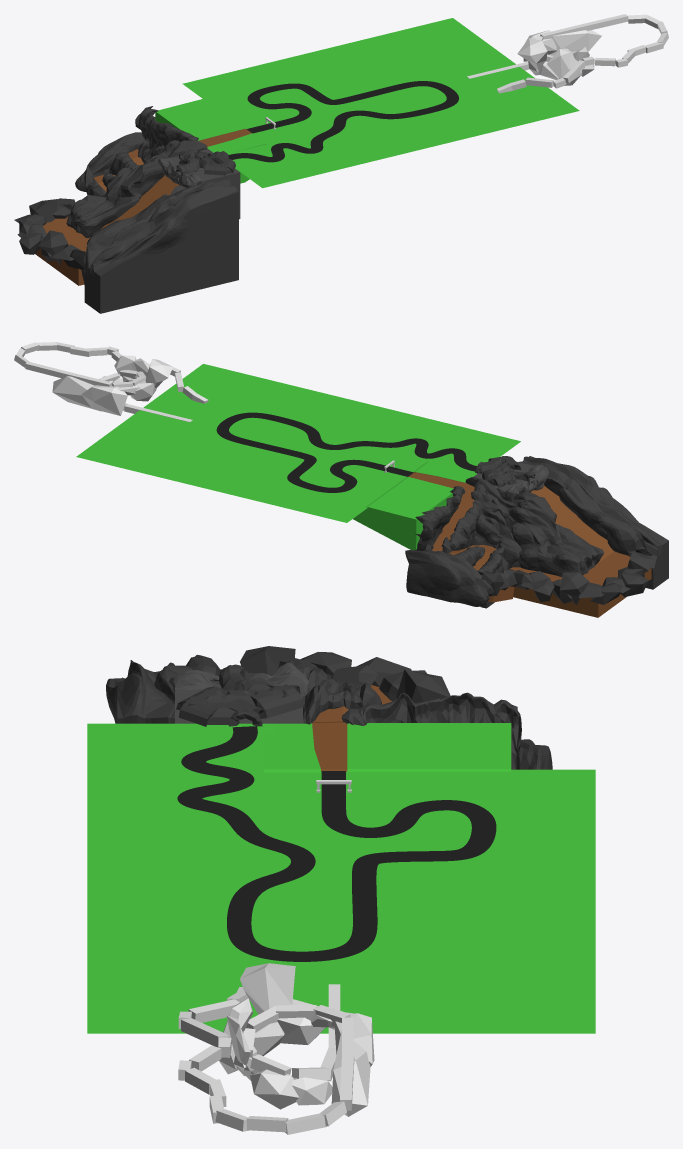
The model's file is mapdenemeee123.fbx.
3 views of the same model, one above another, from view 1: azimuth 30°, elevation 25°; view 2: azimuth 150°, elevation 25°; view 3: azimuth 270°, elevation 25° (orthographic). The views are drawn at different scales.
Visible parts, largest first — view 1: Plane, Cube.045, Cube.033, Cube.041, Cube.023, Cube.030, Cube.025, Cube.024, Icosphere.008, Cube.040, Cube.008, Icosphere.009 (+3 smaller); view 2: Plane, Cube.045, Cube.033, Cube.041, Cube.025, Cube.024, Cube.030, Cube.023, Icosphere.007, Icosphere.008, Cube.026, Cube.029 (+5 smaller); view 3: Plane, Cube.033, Cube.045, Cube.041, Cube.030, Cube.023, Cube.040, Icosphere.009, Cube.032, Icosphere.008, Icosphere.002, Icosphere.022 (+6 smaller).
Boxes of the visible parts, x1,y1,x2,y2 form: Plane: (182,18,579,188); Cube.045: (66,106,238,313); Cube.033: (228,81,458,162); Cube.041: (155,98,246,140); Cube.023: (158,149,240,219); Cube.030: (176,149,235,175); Cube.025: (35,218,90,285); Cube.024: (100,175,178,229); Icosphere.008: (549,30,601,55); Cube.040: (207,133,267,183); Cube.008: (540,14,628,39); Icosphere.009: (517,38,547,72); Plane: (76,364,520,522); Cube.045: (405,456,668,608); Cube.033: (216,412,476,492); Cube.041: (353,477,453,550); Cube.025: (570,551,651,617); Cube.024: (530,485,614,564); Cube.030: (475,456,535,487); Cube.023: (473,461,549,501); Icosphere.007: (81,385,127,415); Icosphere.008: (52,376,100,411); Cube.026: (510,567,570,610); Cube.029: (433,490,474,550); Plane: (87,723,595,1033); Cube.033: (177,726,496,961); Cube.045: (106,654,552,769); Cube.041: (347,723,511,771); Cube.030: (176,664,303,726); Cube.023: (169,663,309,723); Cube.040: (263,723,320,772); Icosphere.009: (240,963,295,1014); Cube.032: (312,722,347,771); Icosphere.008: (331,1030,370,1116); Icosphere.002: (250,1069,299,1109); Icosphere.022: (396,669,450,702).
Bounding box in the file's own units: 4641 × 905 × 1613.
